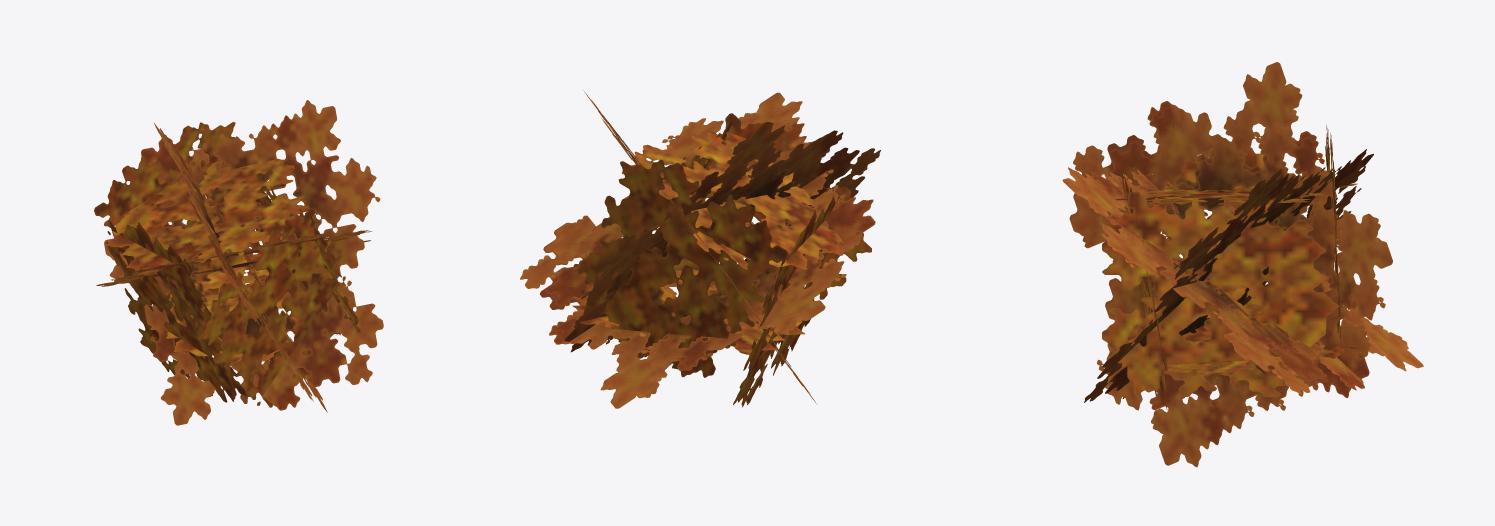
Rendered from maple_leaves_4.obj.
The picture shows the model from 3 angles, left to right: view 1: azimuth 30°, elevation 25°; view 2: azimuth 150°, elevation 25°; view 3: azimuth 270°, elevation 25°; orthographic projection. The views are drawn at different scales.
Visible parts, largest first — view 1: west, east, bottom, south, top, north; view 2: south, top, east, west, bottom; view 3: east, north, south, west, bottom, top.
Part boxes in pixels (x1=…): west: x1=104, y1=100, x2=383, y2=425; east: x1=106, y1=123, x2=327, y2=412; bottom: x1=198, y1=207, x2=352, y2=407; south: x1=96, y1=220, x2=371, y2=402; top: x1=94, y1=122, x2=260, y2=307; north: x1=254, y1=186, x2=360, y2=349; south: x1=520, y1=92, x2=875, y2=408; top: x1=577, y1=160, x2=788, y2=377; east: x1=564, y1=122, x2=880, y2=369; west: x1=572, y1=90, x2=817, y2=404; bottom: x1=666, y1=113, x2=871, y2=355; east: x1=1069, y1=62, x2=1392, y2=467; north: x1=1102, y1=192, x2=1338, y2=397; south: x1=1062, y1=147, x2=1423, y2=394; west: x1=1084, y1=149, x2=1373, y2=402; bottom: x1=1119, y1=172, x2=1168, y2=410; top: x1=1325, y1=125, x2=1340, y2=348.
Bounding box in the file's own units: 2.25 × 2.27 × 1.98.
